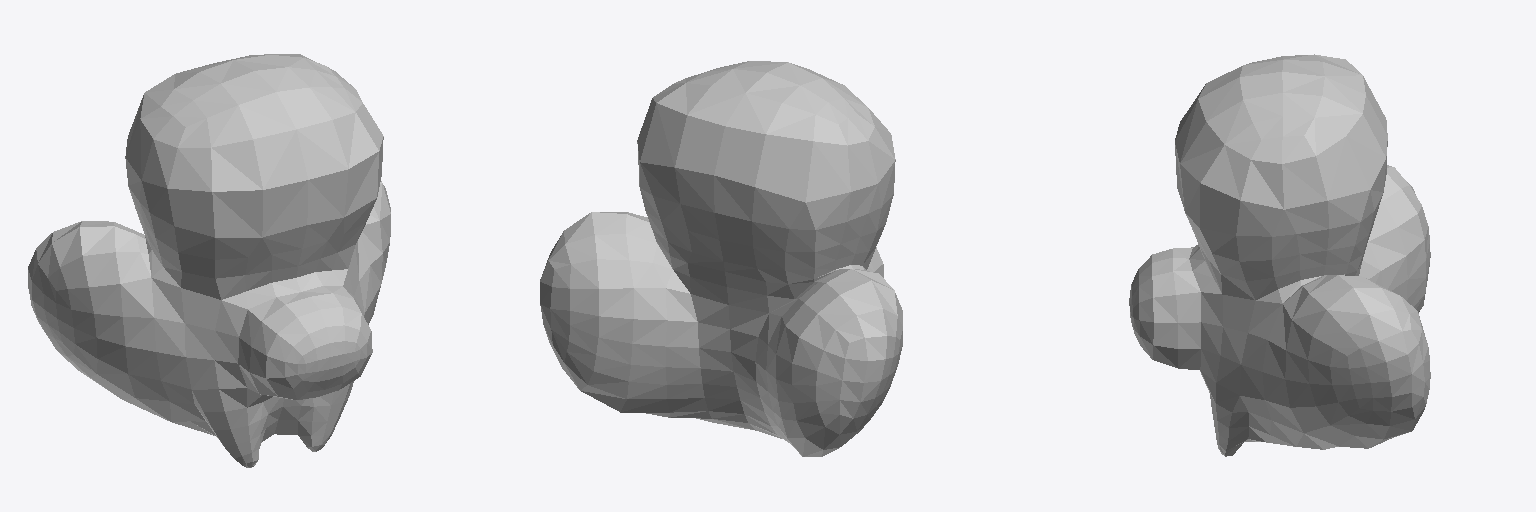
Rendered from Hair.obj.
The picture shows the model from 3 angles: view 1: azimuth 30°, elevation 25°; view 2: azimuth 150°, elevation 25°; view 3: azimuth 270°, elevation 25°; orthographic projection.
Bounding box in the file's own units: 65.63 × 67.57 × 50.07.